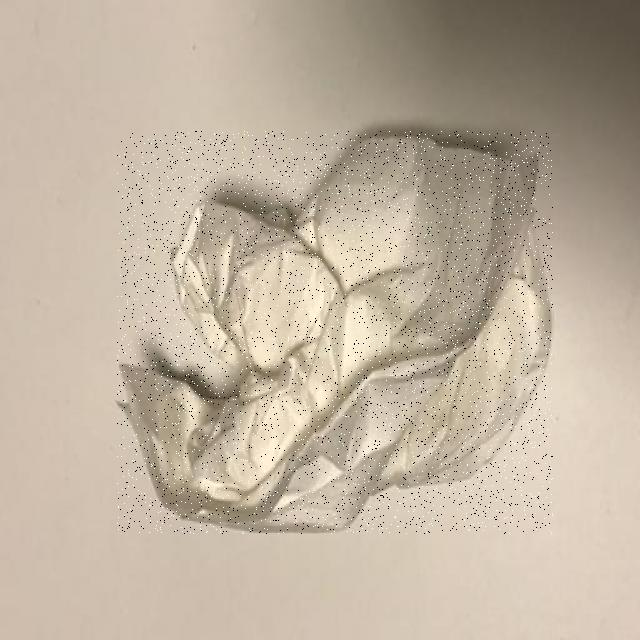paper: (117, 131, 553, 534)
